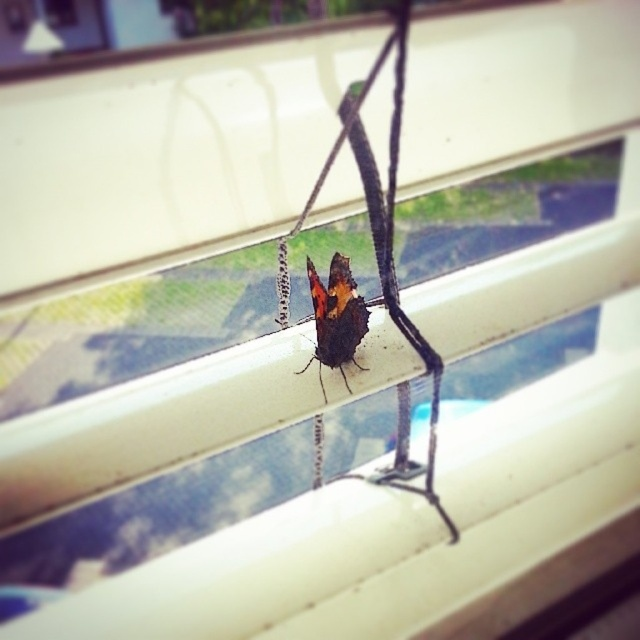Butterfly: (292, 251, 374, 412)
